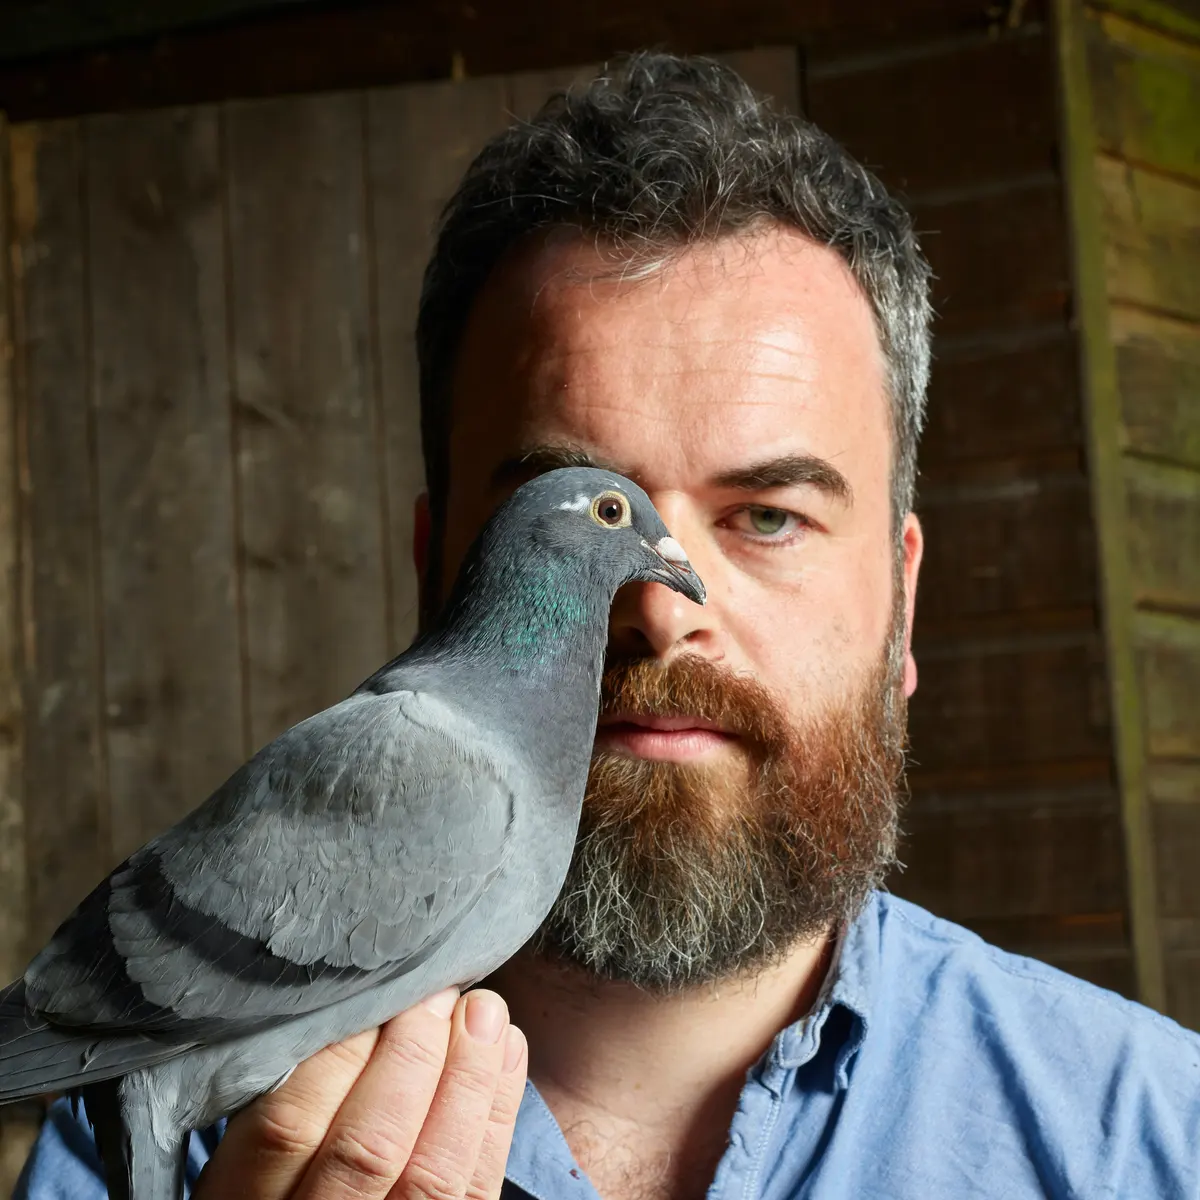Flying Rat: (1, 469, 701, 1069)
